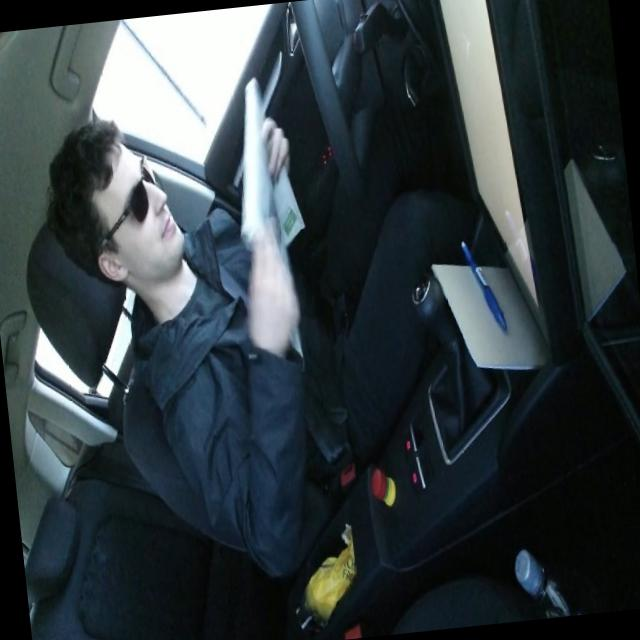pen: (458, 233, 508, 334)
